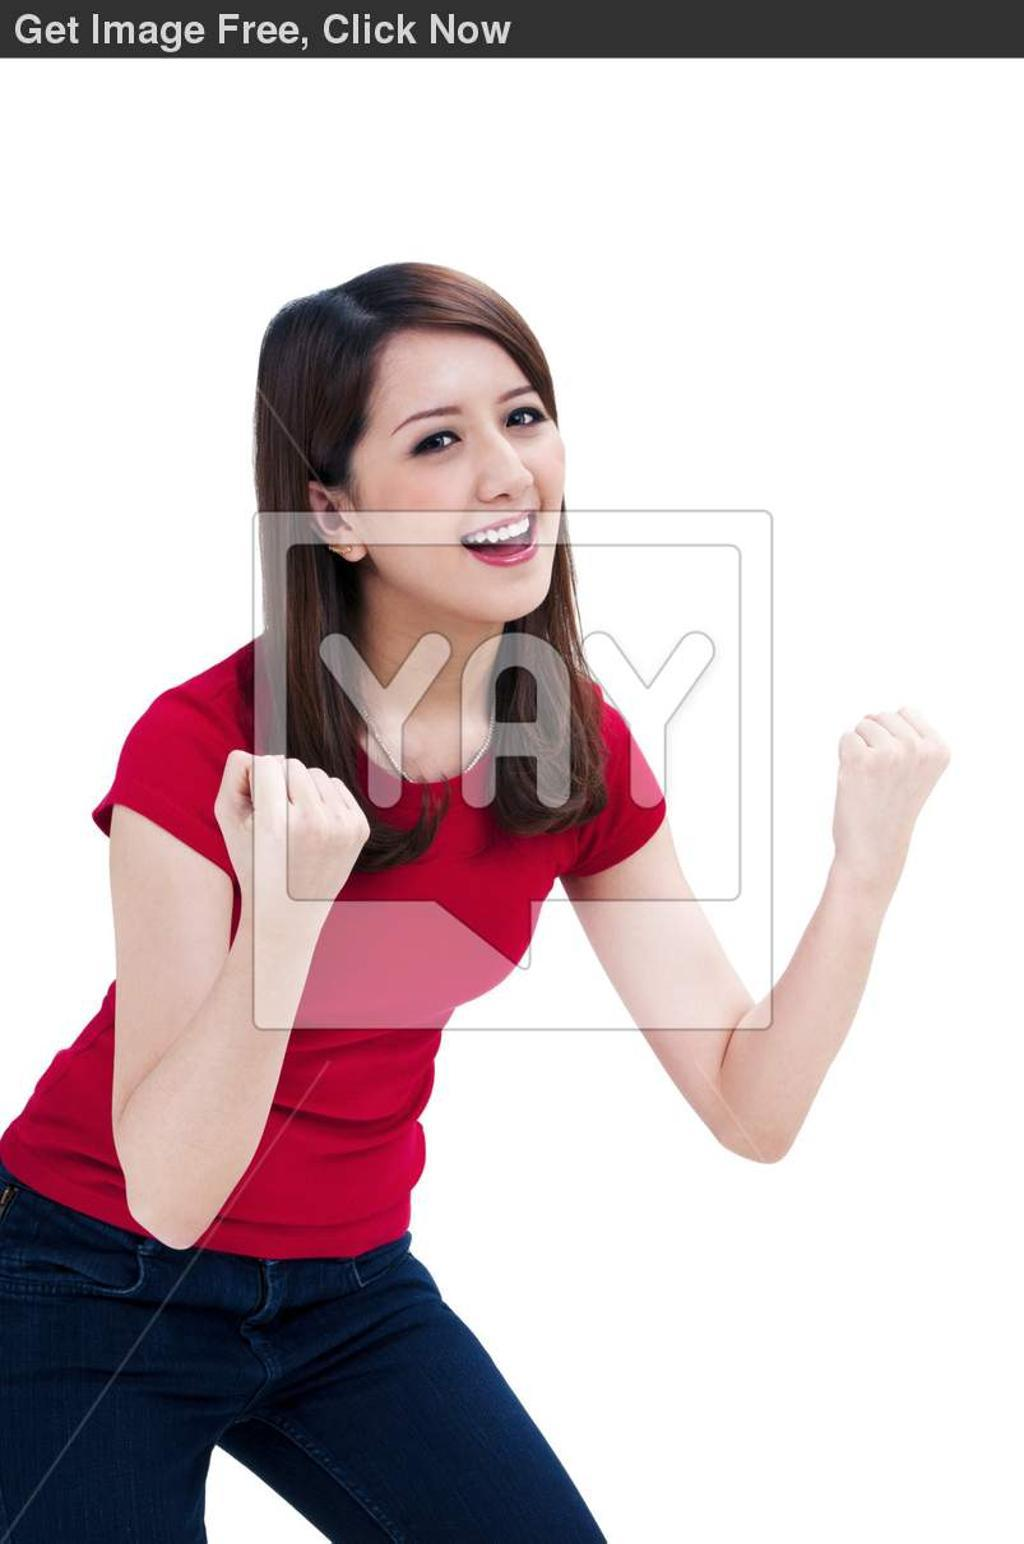face: (347, 317, 561, 615)
